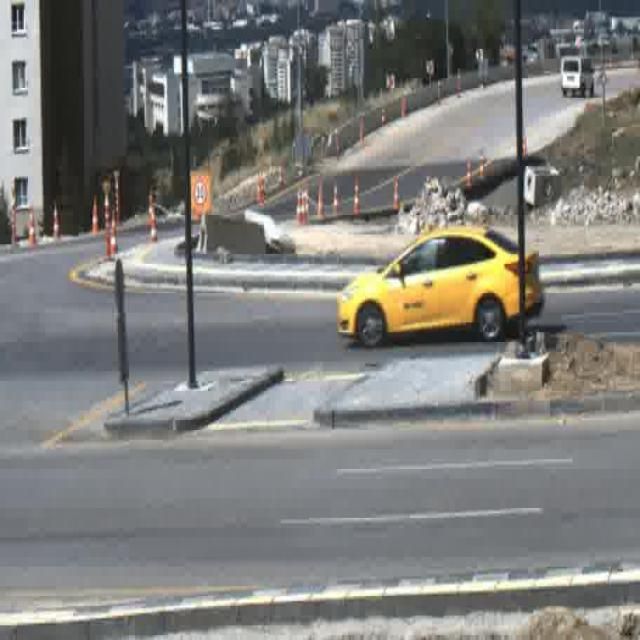Car: (336, 223, 545, 344), (562, 53, 594, 94)
